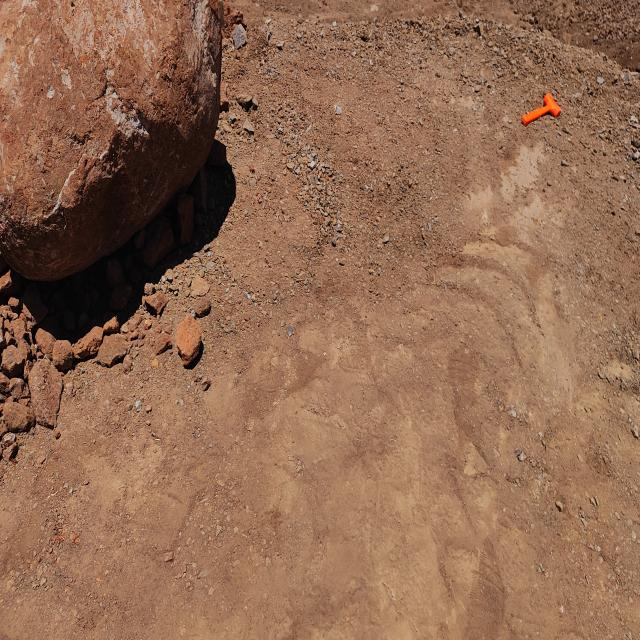Orange_hammer: (521, 91, 561, 127)
